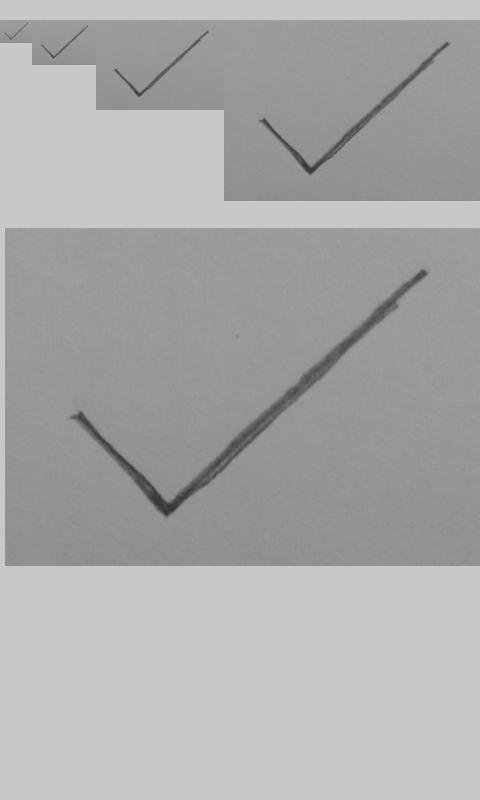check_box: (70, 269, 429, 517), (261, 42, 447, 174), (113, 32, 207, 97), (41, 26, 87, 59), (4, 23, 28, 40)
